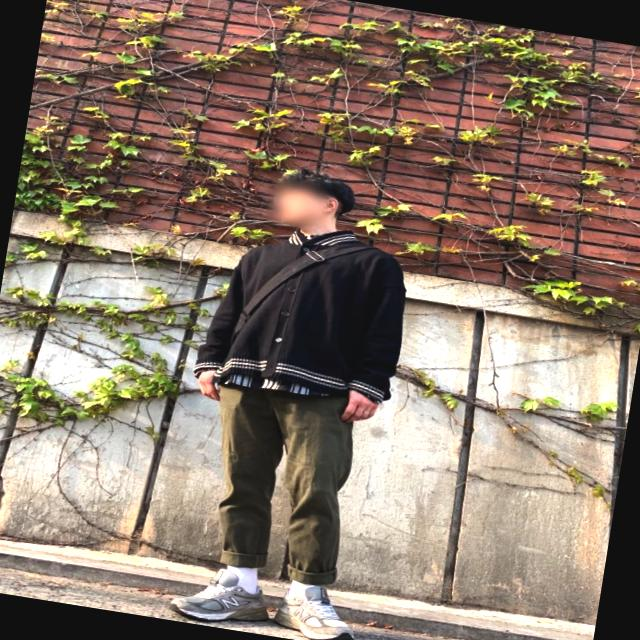cottonpants: (192, 368, 368, 584)
jacket: (192, 215, 416, 412)
